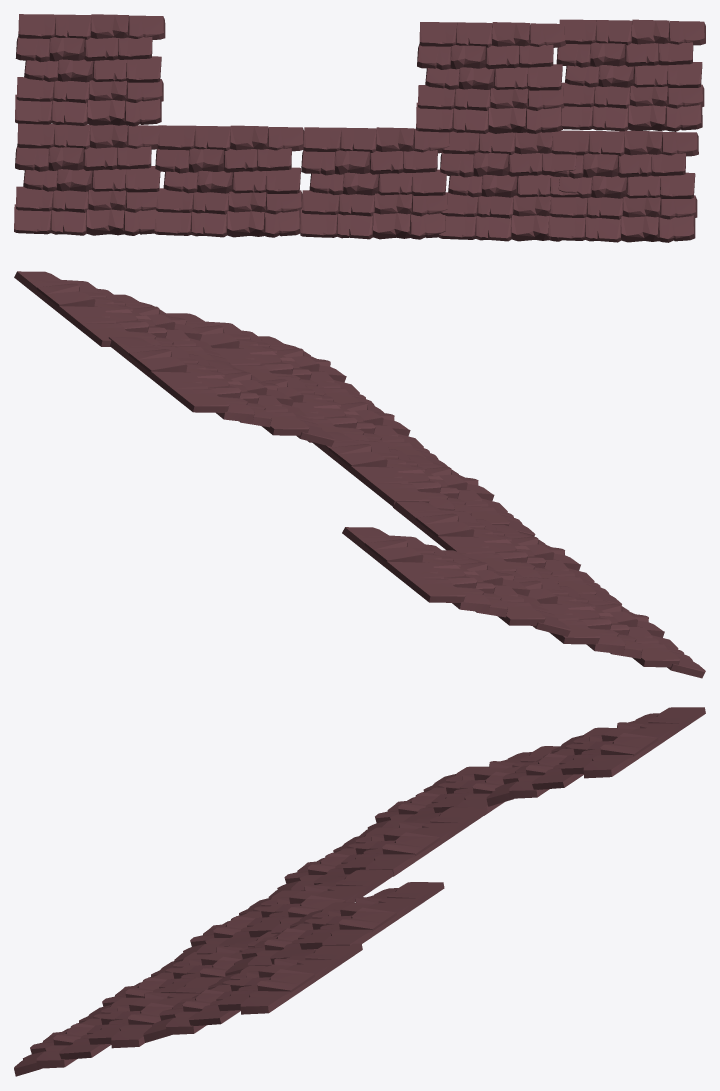
The model's file is RedMainLeftRoof.fbx.
3 views of the same model, one above another, from view 1: azimuth 30°, elevation 25°; view 2: azimuth 150°, elevation 25°; view 3: azimuth 270°, elevation 25° (orthographic). The views are drawn at different scales.
Parts seen in each view (by area): view 1: RedMainLeftRoof_Merged; view 2: RedMainLeftRoof_Merged; view 3: RedMainLeftRoof_Merged.
Part boxes in pixels (left/top/right/bottom): RedMainLeftRoof_Merged: left=14, top=14, right=705, bottom=242; RedMainLeftRoof_Merged: left=14, top=271, right=705, bottom=678; RedMainLeftRoof_Merged: left=14, top=707, right=705, bottom=1076.
Size of the model in its own units: 1708 by 311 by 1364.
